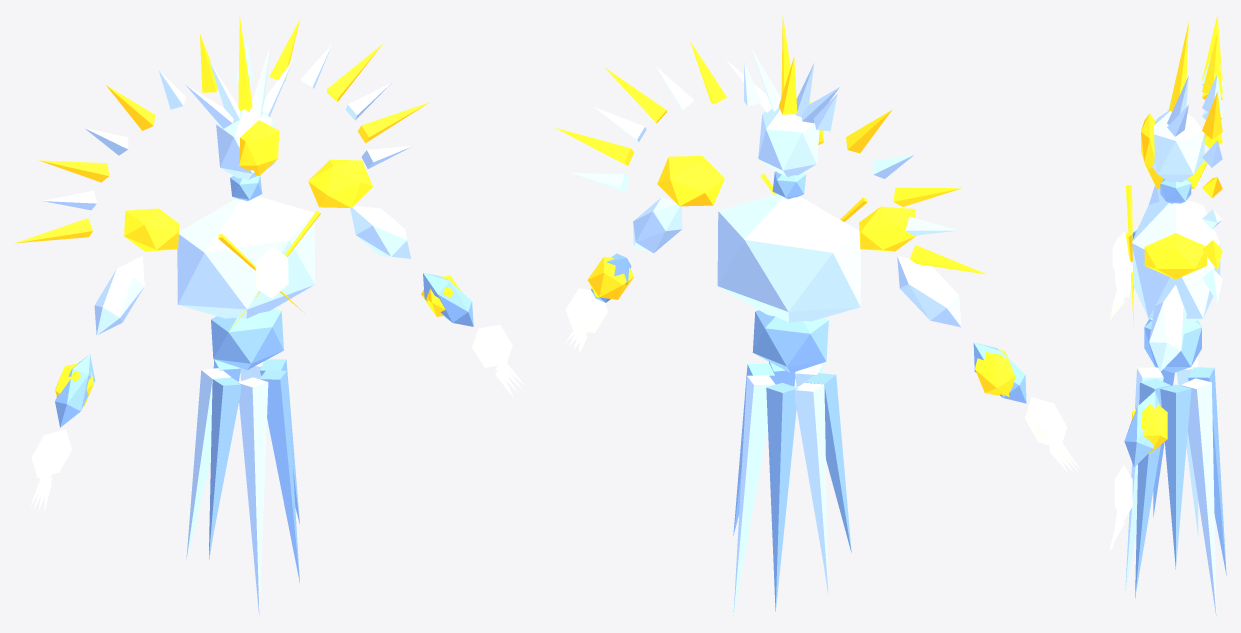
File: light_god_E.glb
The picture shows the model from 3 angles, left to right: view 1: azimuth 30°, elevation 25°; view 2: azimuth 150°, elevation 25°; view 3: azimuth 270°, elevation 25°; orthographic projection. The views are drawn at different scales.
Parts seen in each view (by area): view 1: god_body; view 2: god_body; view 3: god_body.
Boxes of the visible parts, left/top/right/bottom form: god_body: left=15, top=15, right=525, bottom=617; god_body: left=555, top=15, right=1080, bottom=617; god_body: left=1109, top=14, right=1226, bottom=617.
Size of the model in its own units: 2.21 by 2.46 by 0.4502.
